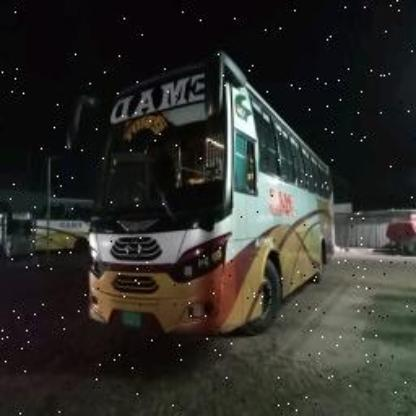bus: (82, 44, 338, 346), (4, 186, 90, 264)
